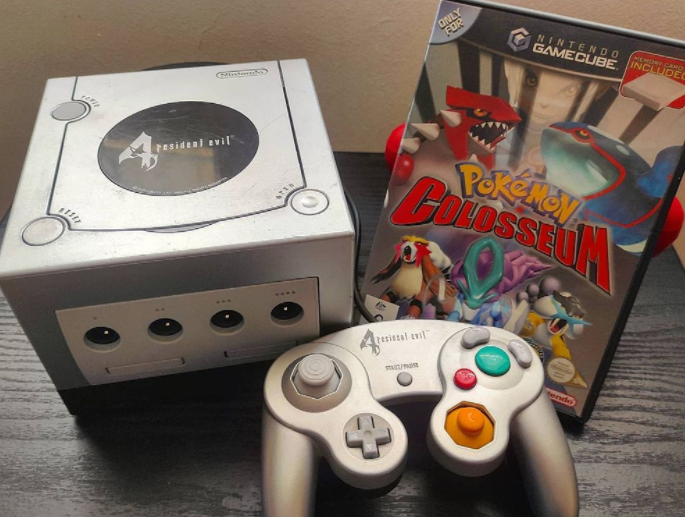gamingconsole: (259, 318, 577, 517)
